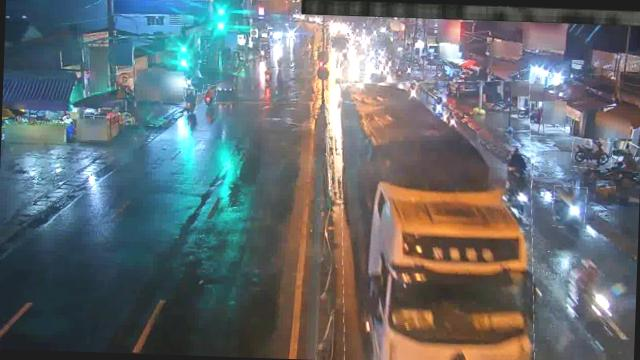Bike: (552, 185, 586, 228), (571, 139, 613, 170), (506, 152, 534, 188), (436, 94, 458, 120), (448, 109, 468, 135), (184, 88, 198, 114), (202, 85, 216, 104)
Truck: (333, 76, 540, 360)
